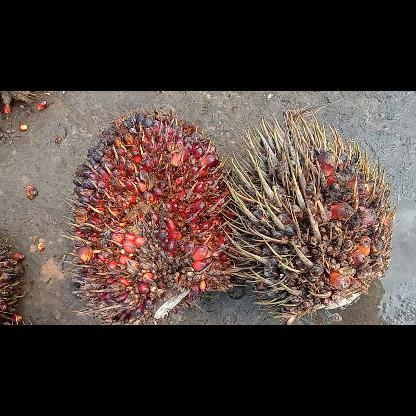TBS abnormal: (224, 108, 396, 324)
TBS masak: (61, 104, 234, 324)
